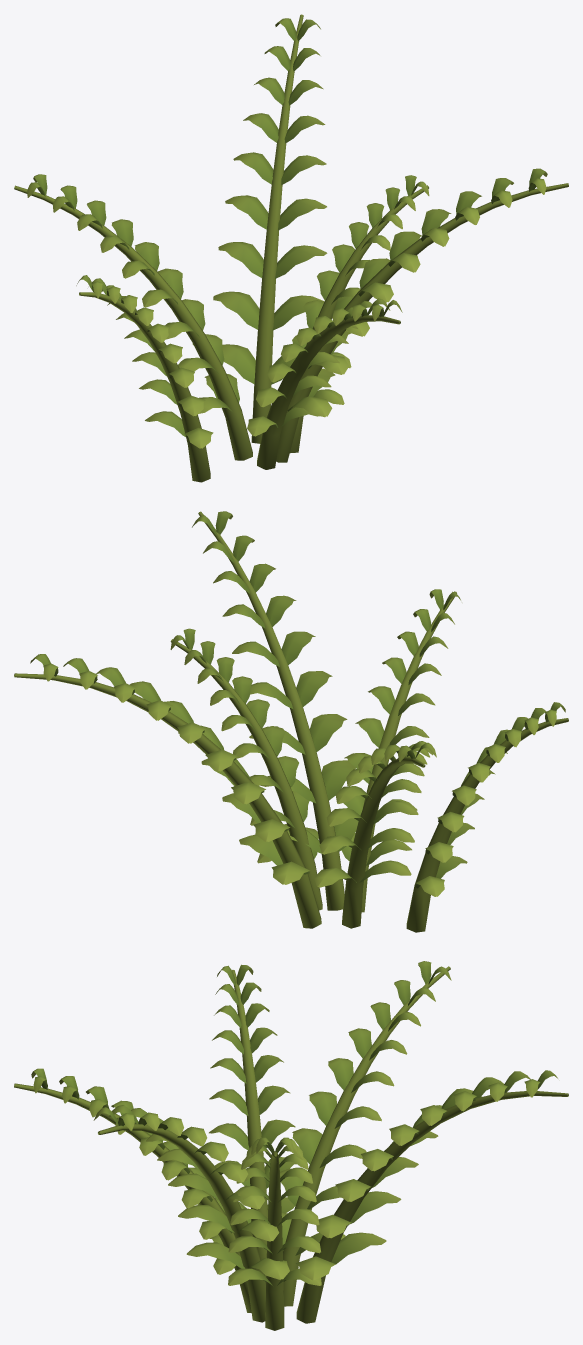
The model's file is fern_small.glb.
3 views of the same model, one above another, from view 1: azimuth 30°, elevation 25°; view 2: azimuth 150°, elevation 25°; view 3: azimuth 270°, elevation 25° (orthographic). The views are drawn at different scales.
Parts seen in each view (by area): view 1: Plant; view 2: Plant; view 3: Plant.
Part boxes in pixels (x1,y1,x2,y2): Plant: (14, 14, 568, 482); Plant: (14, 511, 568, 932); Plant: (14, 961, 568, 1330).
Size of the model in its own units: 0.3717 by 0.2559 by 0.4012.
